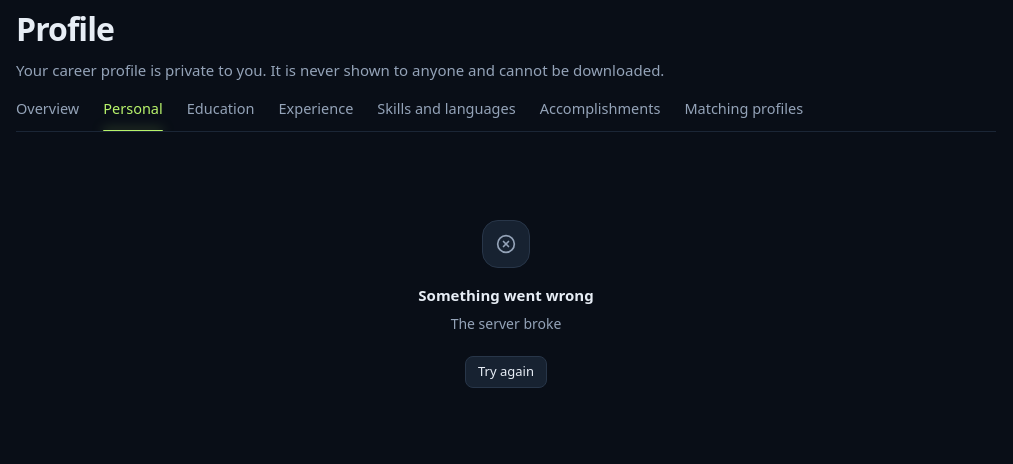
Scenario: Personal: read view › shows a loading state, then an error with a retry that works
Expected: the text "The server broke" is shown, [451, 313, 561, 336]
What coordinates should you click on to do the following:
click the button "Try again"
I would click on:
 (506, 372)
Its box is [465, 356, 547, 388].
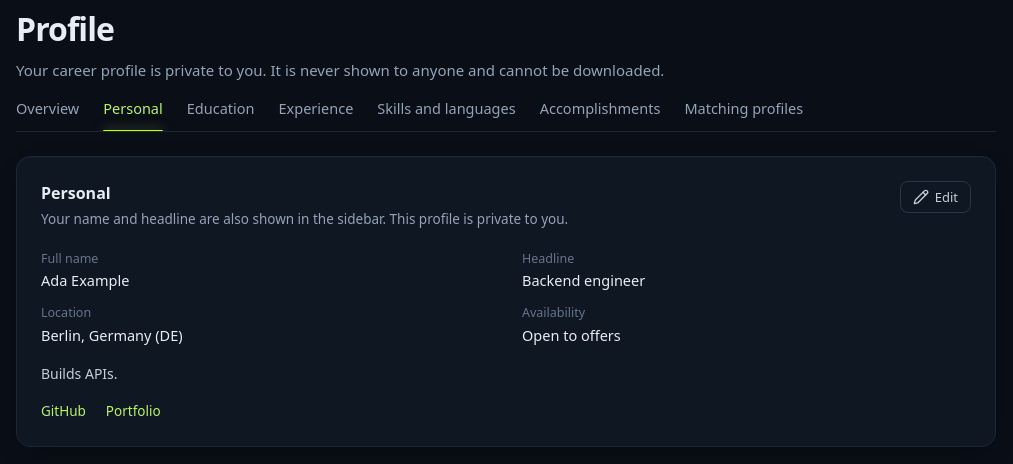
Now the text "Ada Example" is shown, box [41, 270, 129, 290]
